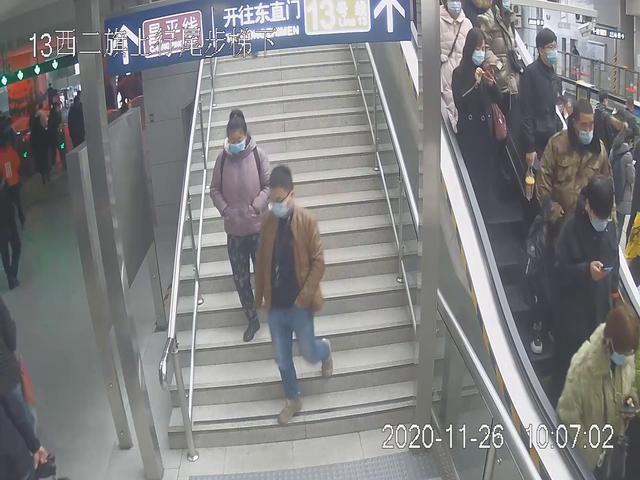person: (251, 159, 341, 424), (529, 95, 615, 295), (547, 175, 622, 399), (208, 108, 276, 341), (450, 23, 509, 238), (516, 24, 574, 202)
